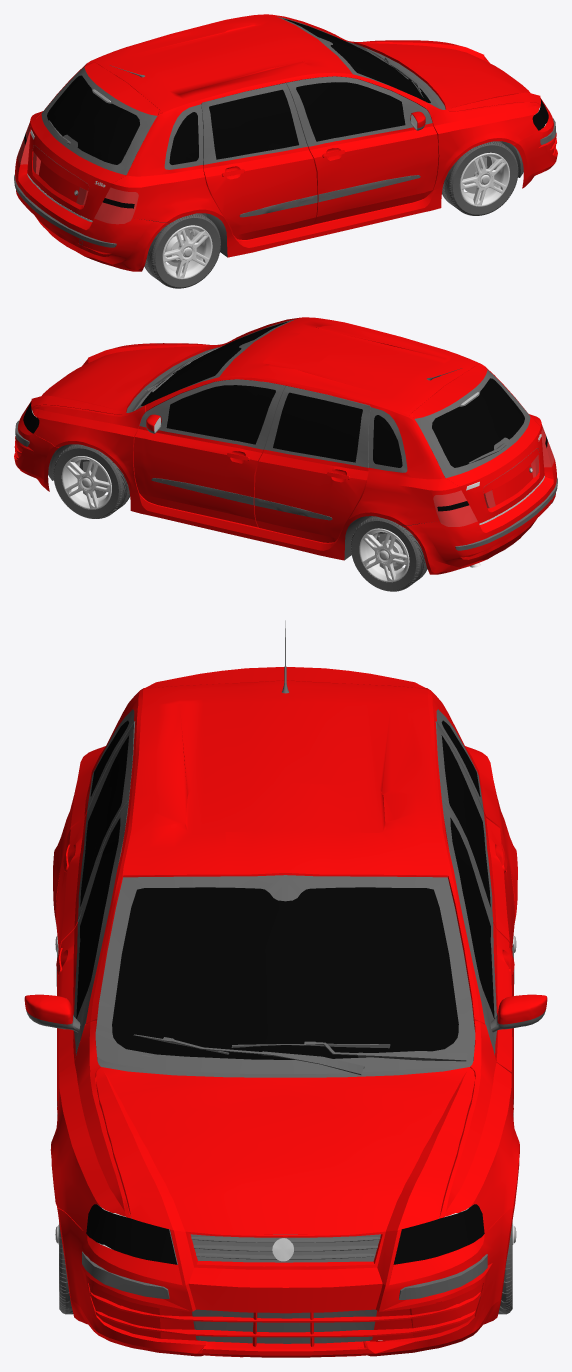
File: stilo.glb
3 renders of one model, top to bottom at view 1: azimuth 30°, elevation 25°; view 2: azimuth 150°, elevation 25°; view 3: azimuth 270°, elevation 25°, orthographic. The views are drawn at different scales.
Visible parts, largest first — view 1: ID1262, ID838, ID3203, ID807, ID937, ID798, ID866, ID989, ID3231, ID885, ID2676, ID816 (+16 smaller); view 2: ID1262, ID602, ID665, ID807, ID937, ID798, ID632, ID699, ID989, ID885, ID580, ID2676 (+16 smaller); view 3: ID1262, ID807, ID2676, ID517, ID1102, ID497, ID937, ID3126, ID3120, ID866, ID632, ID699 (+19 smaller).
Part boxes in pixels (bbox=[...]): ID1262: bbox=[29, 14, 540, 257]; ID838: bbox=[308, 123, 438, 224]; ID3203: bbox=[203, 146, 317, 239]; ID807: bbox=[354, 40, 540, 111]; ID937: bbox=[27, 61, 161, 220]; ID798: bbox=[15, 155, 169, 271]; ID866: bbox=[296, 82, 405, 141]; ID989: bbox=[47, 75, 139, 164]; ID3231: bbox=[209, 89, 298, 159]; ID885: bbox=[41, 65, 157, 175]; ID2676: bbox=[283, 18, 430, 102]; ID816: bbox=[286, 76, 432, 146]; ID1262: bbox=[31, 317, 542, 560]; ID602: bbox=[133, 426, 263, 527]; ID665: bbox=[254, 449, 368, 542]; ID807: bbox=[31, 343, 217, 414]; ID937: bbox=[410, 364, 544, 523]; ID798: bbox=[402, 458, 556, 574]; ID632: bbox=[166, 385, 275, 444]; ID699: bbox=[273, 392, 362, 462]; ID989: bbox=[432, 378, 524, 467]; ID885: bbox=[414, 368, 530, 477]; ID580: bbox=[139, 379, 285, 449]; ID2676: bbox=[141, 321, 288, 405]; ID1262: bbox=[50, 680, 519, 1233]; ID807: bbox=[96, 1067, 474, 1236]; ID2676: bbox=[112, 887, 458, 1059]; ID517: bbox=[57, 1203, 515, 1357]; ID1102: bbox=[95, 875, 475, 1077]; ID497: bbox=[192, 1309, 376, 1343]; ID937: bbox=[143, 667, 427, 689]; ID3126: bbox=[393, 1204, 484, 1264]; ID3120: bbox=[86, 1204, 177, 1264]; ID866: bbox=[76, 818, 120, 1018]; ID632: bbox=[450, 817, 494, 1018]; ID699: bbox=[441, 735, 490, 906].
Size of the model in its own units: 4.37 by 1.62 by 2.04.
